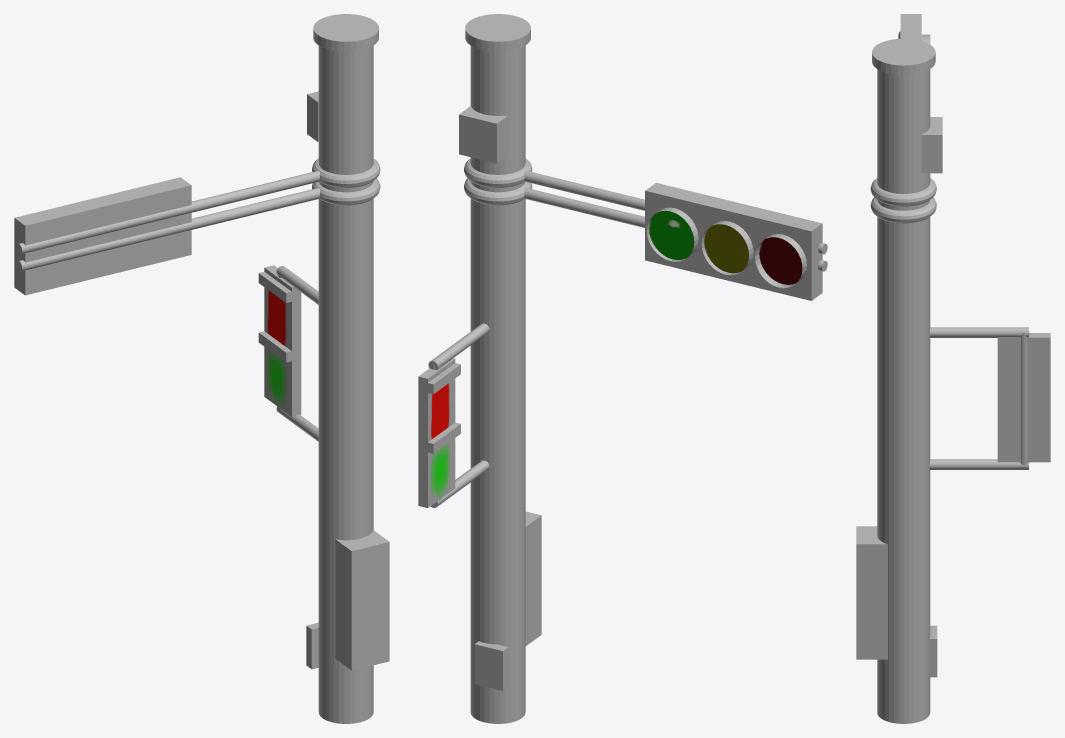
Rendered from sinngou.obj.
3 renders of one model, left to right at view 1: azimuth 30°, elevation 25°; view 2: azimuth 150°, elevation 25°; view 3: azimuth 270°, elevation 25°, orthographic. The views are drawn at different scales.
Parts seen in each view (by area): view 1: 立方体.006; view 2: 立方体.006; view 3: 立方体.006.
Boxes of the visible parts, x1=… form: 立方体.006: x1=14, y1=14, x2=389, y2=723; 立方体.006: x1=418, y1=14, x2=827, y2=723; 立方体.006: x1=856, y1=14, x2=1050, y2=723.
Size of the model in its own units: 11.46 by 21.03 by 5.6.
1 material, 1 textured.
